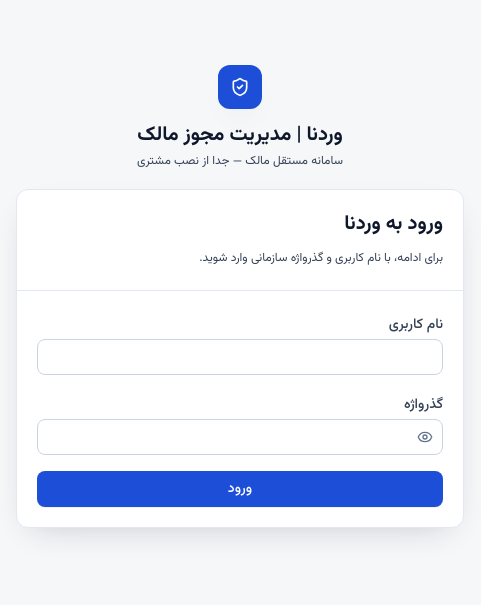
Test: Owner browser vertical slice (mocked API boundary, CI) › shows real login errors without retaining the rejected password
The width and height of the screenshot is (481, 605).
Type "owner" into the field labelled "نام کاربری" at (240, 356), box x1=37 y1=338 x2=443 y2=374
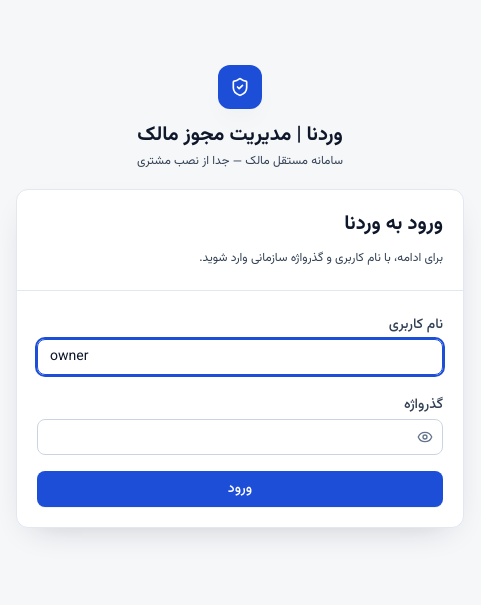
Type "rejected-password" into the password field labelled "گذرواژه" at (240, 436), box x1=37 y1=418 x2=443 y2=454
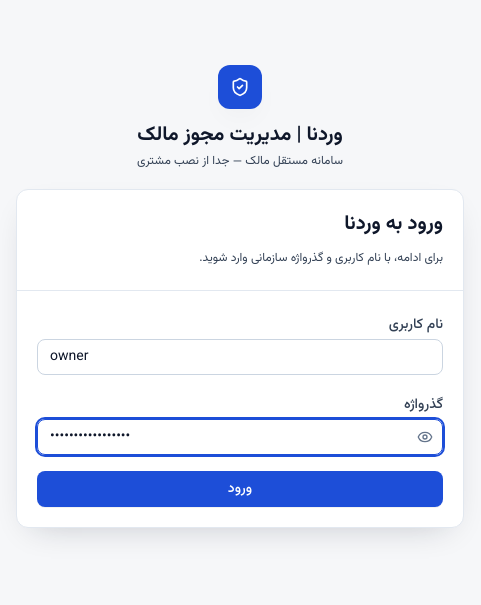
Click the button "ورود" at (240, 488), box x1=37 y1=470 x2=443 y2=506
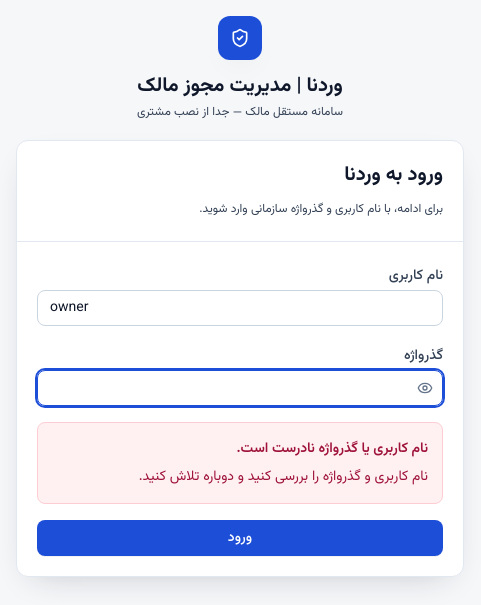
Now the message is shown, box x1=37 y1=422 x2=443 y2=504
Now the password field labelled "گذرواژه" is empty, box x1=37 y1=370 x2=443 y2=406
